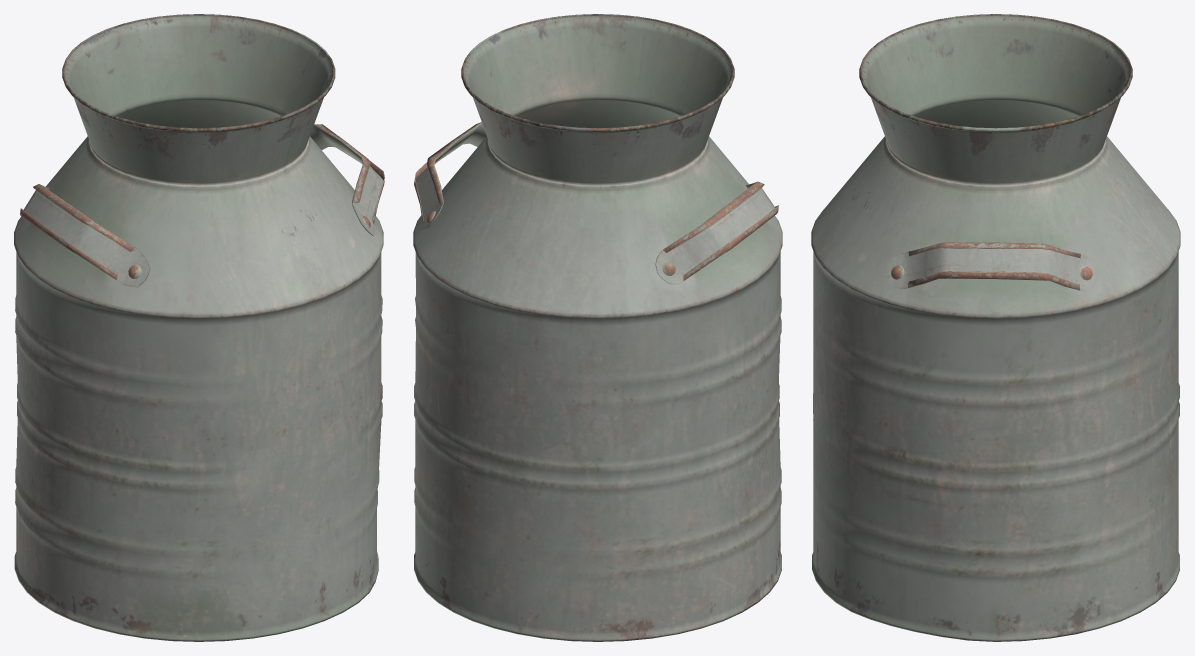
Rendered from metal_jug_1k.fbx.
The picture shows the model from 3 angles, left to right: view 1: azimuth 30°, elevation 25°; view 2: azimuth 150°, elevation 25°; view 3: azimuth 270°, elevation 25°; orthographic projection.
Visible parts, largest first — view 1: metal_jug; view 2: metal_jug; view 3: metal_jug.
Boxes of the visible parts, box(x1,y1,x2,y2) form: metal_jug: box(14, 14, 384, 641); metal_jug: box(413, 14, 782, 641); metal_jug: box(811, 14, 1180, 641).
Size of the model in its own units: 19.68 by 28.75 by 19.55.
Materials: 1 (1 with a texture image).
